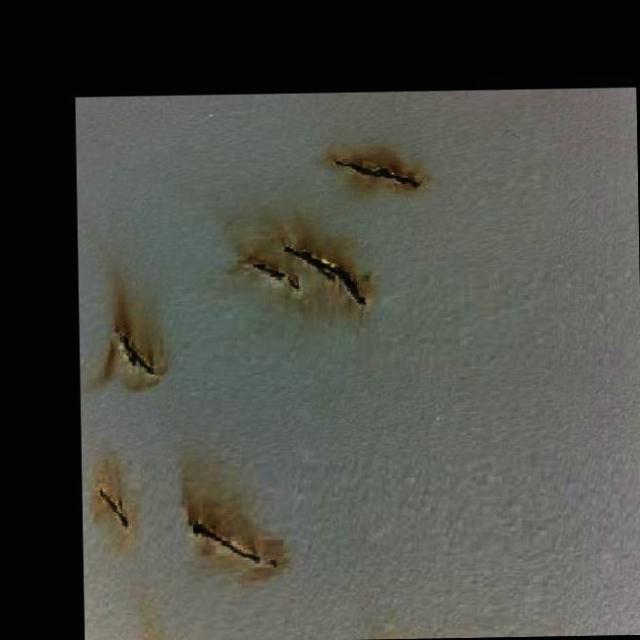crack: (288, 250, 358, 304), (190, 525, 254, 563), (338, 160, 412, 188), (241, 262, 294, 288), (117, 330, 146, 376), (104, 488, 126, 524)
